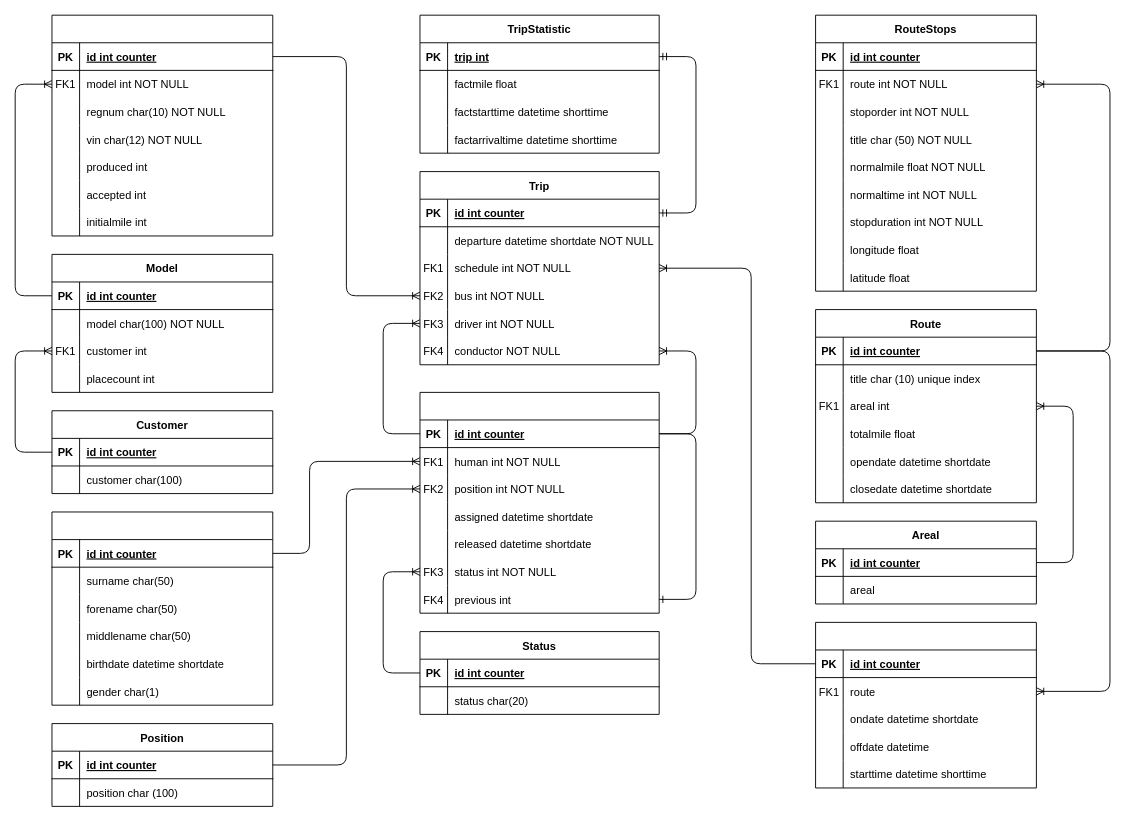
This 1125x822 diagram has some shape labels left out. Here are the shapes that lost their labels. From the top down, the box of each, then its label:
(51, 14, 273, 236): Bus
(419, 391, 659, 613): Staff
(51, 511, 273, 705): Human
(815, 621, 1036, 788): Schedule
